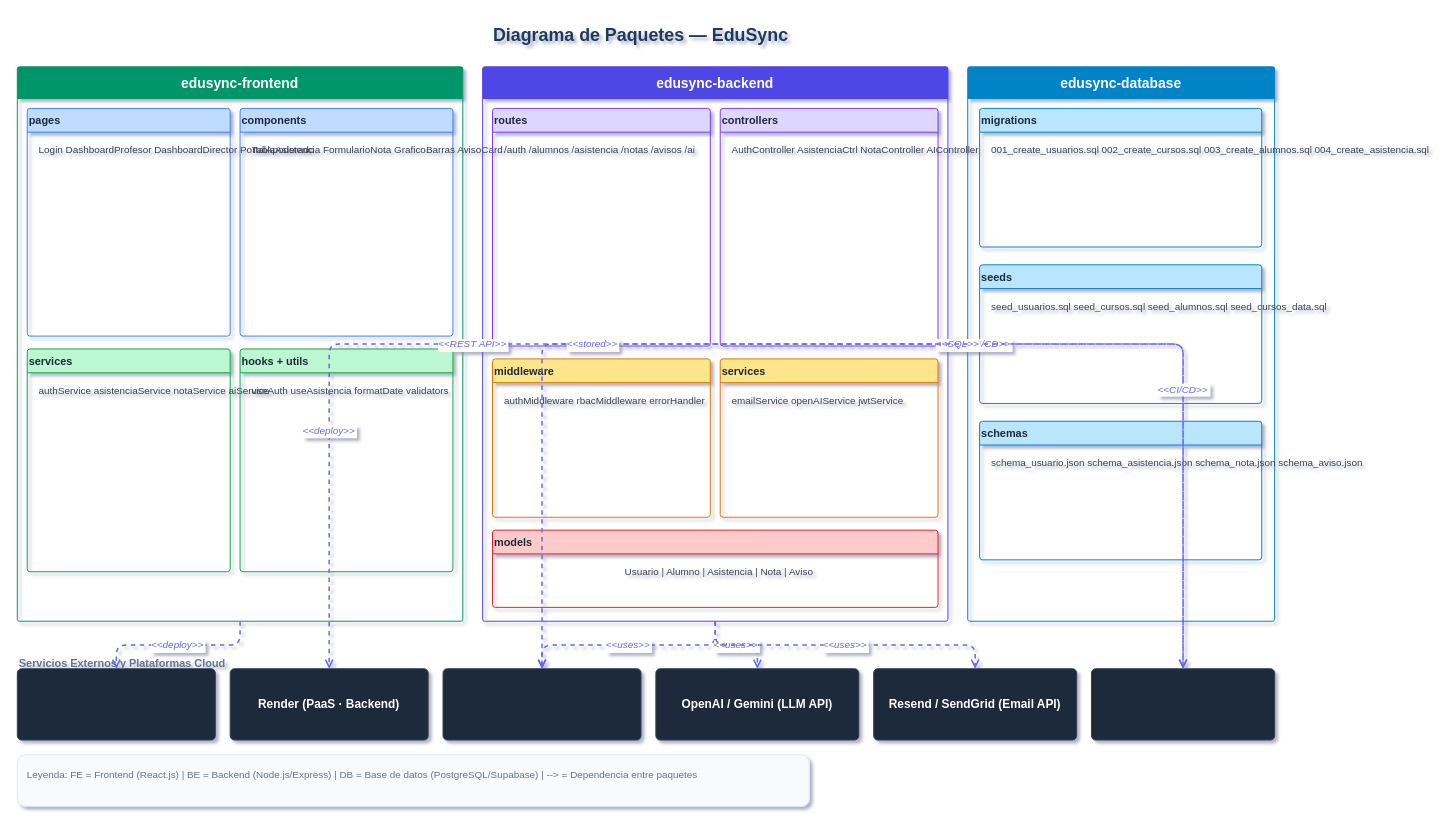
Some shapes in this 1452 by 830 pixel diagram are drawn without their labels. Each missing label, with the centre of its shape:
GitHub + Actions (CI/CD): (x=1182, y=704)
Supabase (DBaaS · PostgreSQL): (x=541, y=704)
Vercel (PaaS · Frontend): (x=115, y=704)
